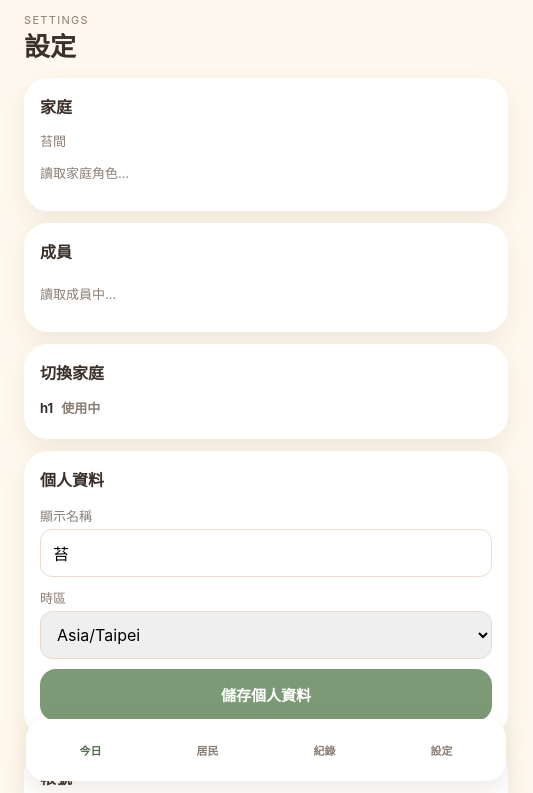
Test case: SettingsPage profile › saves displayName and timezone with user.updateProfile
This screenshot has width=533, height=793.
Step 1. Replace the text in the field labelled "顯示名稱" with "苔苔" → x=266, y=553, box [40,529,492,577]
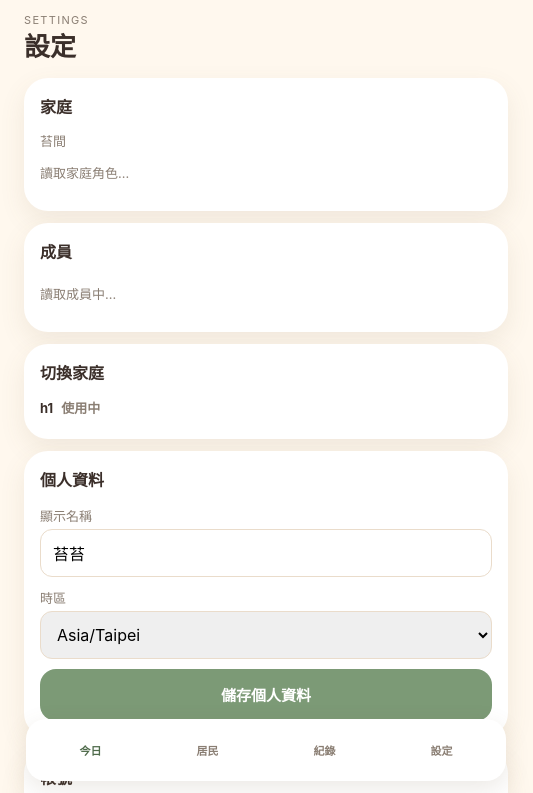
Step 2. Select "Asia/Tokyo" in the dropdown named "個人時區" → x=266, y=635, box [40,611,492,659]
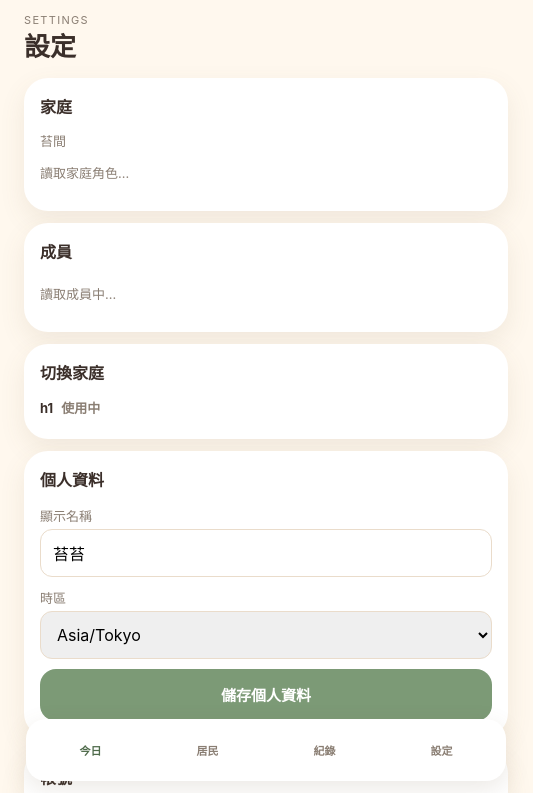
Step 3. Click the button "儲存個人資料" → x=266, y=695, box [40,669,492,721]
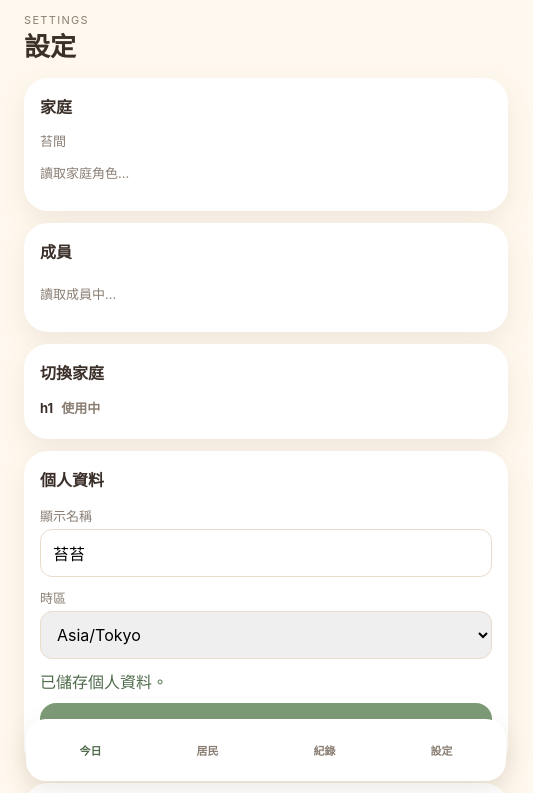
Expected: the text "已儲存個人資料。" is shown, [40,672,168,692]
